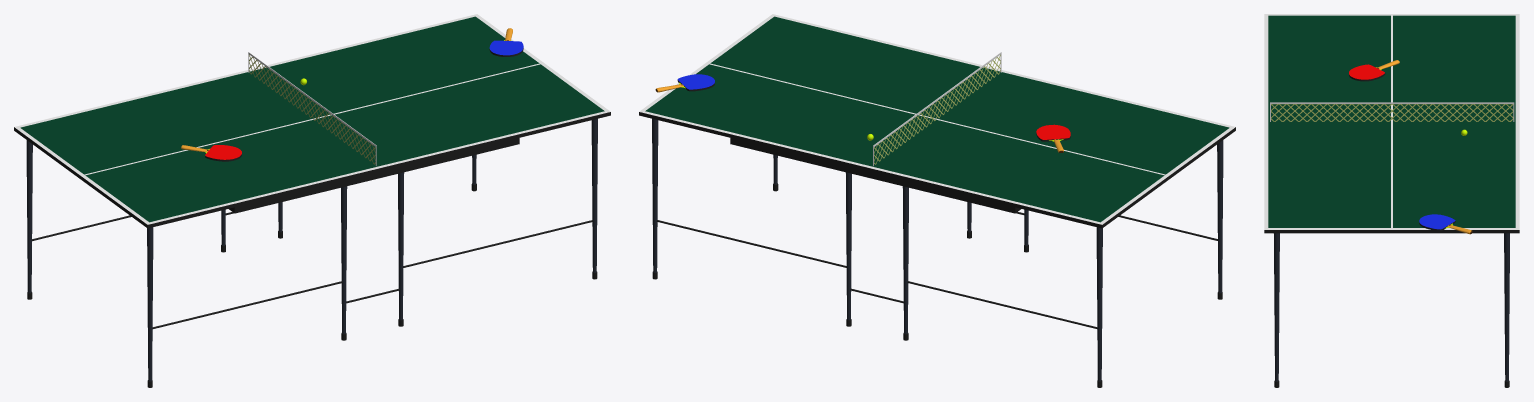
Rendered from Mesa_PingPong.fbx.
The picture shows the model from 3 angles, left to right: view 1: azimuth 30°, elevation 25°; view 2: azimuth 150°, elevation 25°; view 3: azimuth 270°, elevation 25°; orthographic projection. The views are drawn at different scales.
Visible parts, largest first — view 1: PingPong table, Paleta1, Paleta002; view 2: PingPong table, Paleta002, Paleta1; view 3: PingPong table, Paleta002, Paleta1.
Part boxes in pixels (bbox=[...]): PingPong table: bbox=[14, 14, 610, 387]; Paleta1: bbox=[181, 145, 241, 161]; Paleta002: bbox=[489, 28, 523, 56]; PingPong table: bbox=[639, 14, 1235, 387]; Paleta002: bbox=[655, 74, 714, 92]; Paleta1: bbox=[1036, 124, 1070, 152]; PingPong table: bbox=[1264, 14, 1519, 387]; Paleta002: bbox=[1419, 214, 1472, 234]; Paleta1: bbox=[1349, 60, 1399, 81].
Size of the model in its own units: 8.16 by 3.13 by 4.
